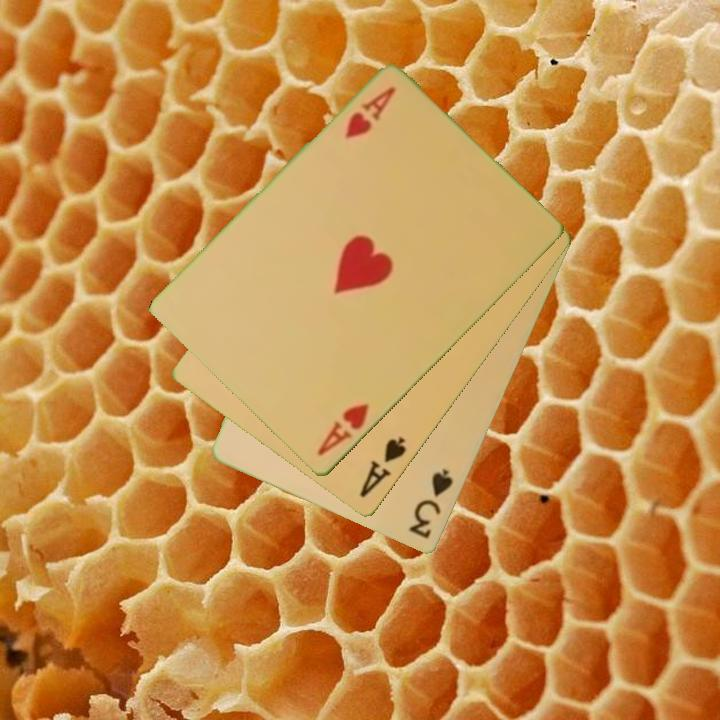3s: (405, 466, 457, 543)
Ah: (313, 400, 372, 460), (341, 83, 399, 143)
As: (356, 434, 410, 501)
